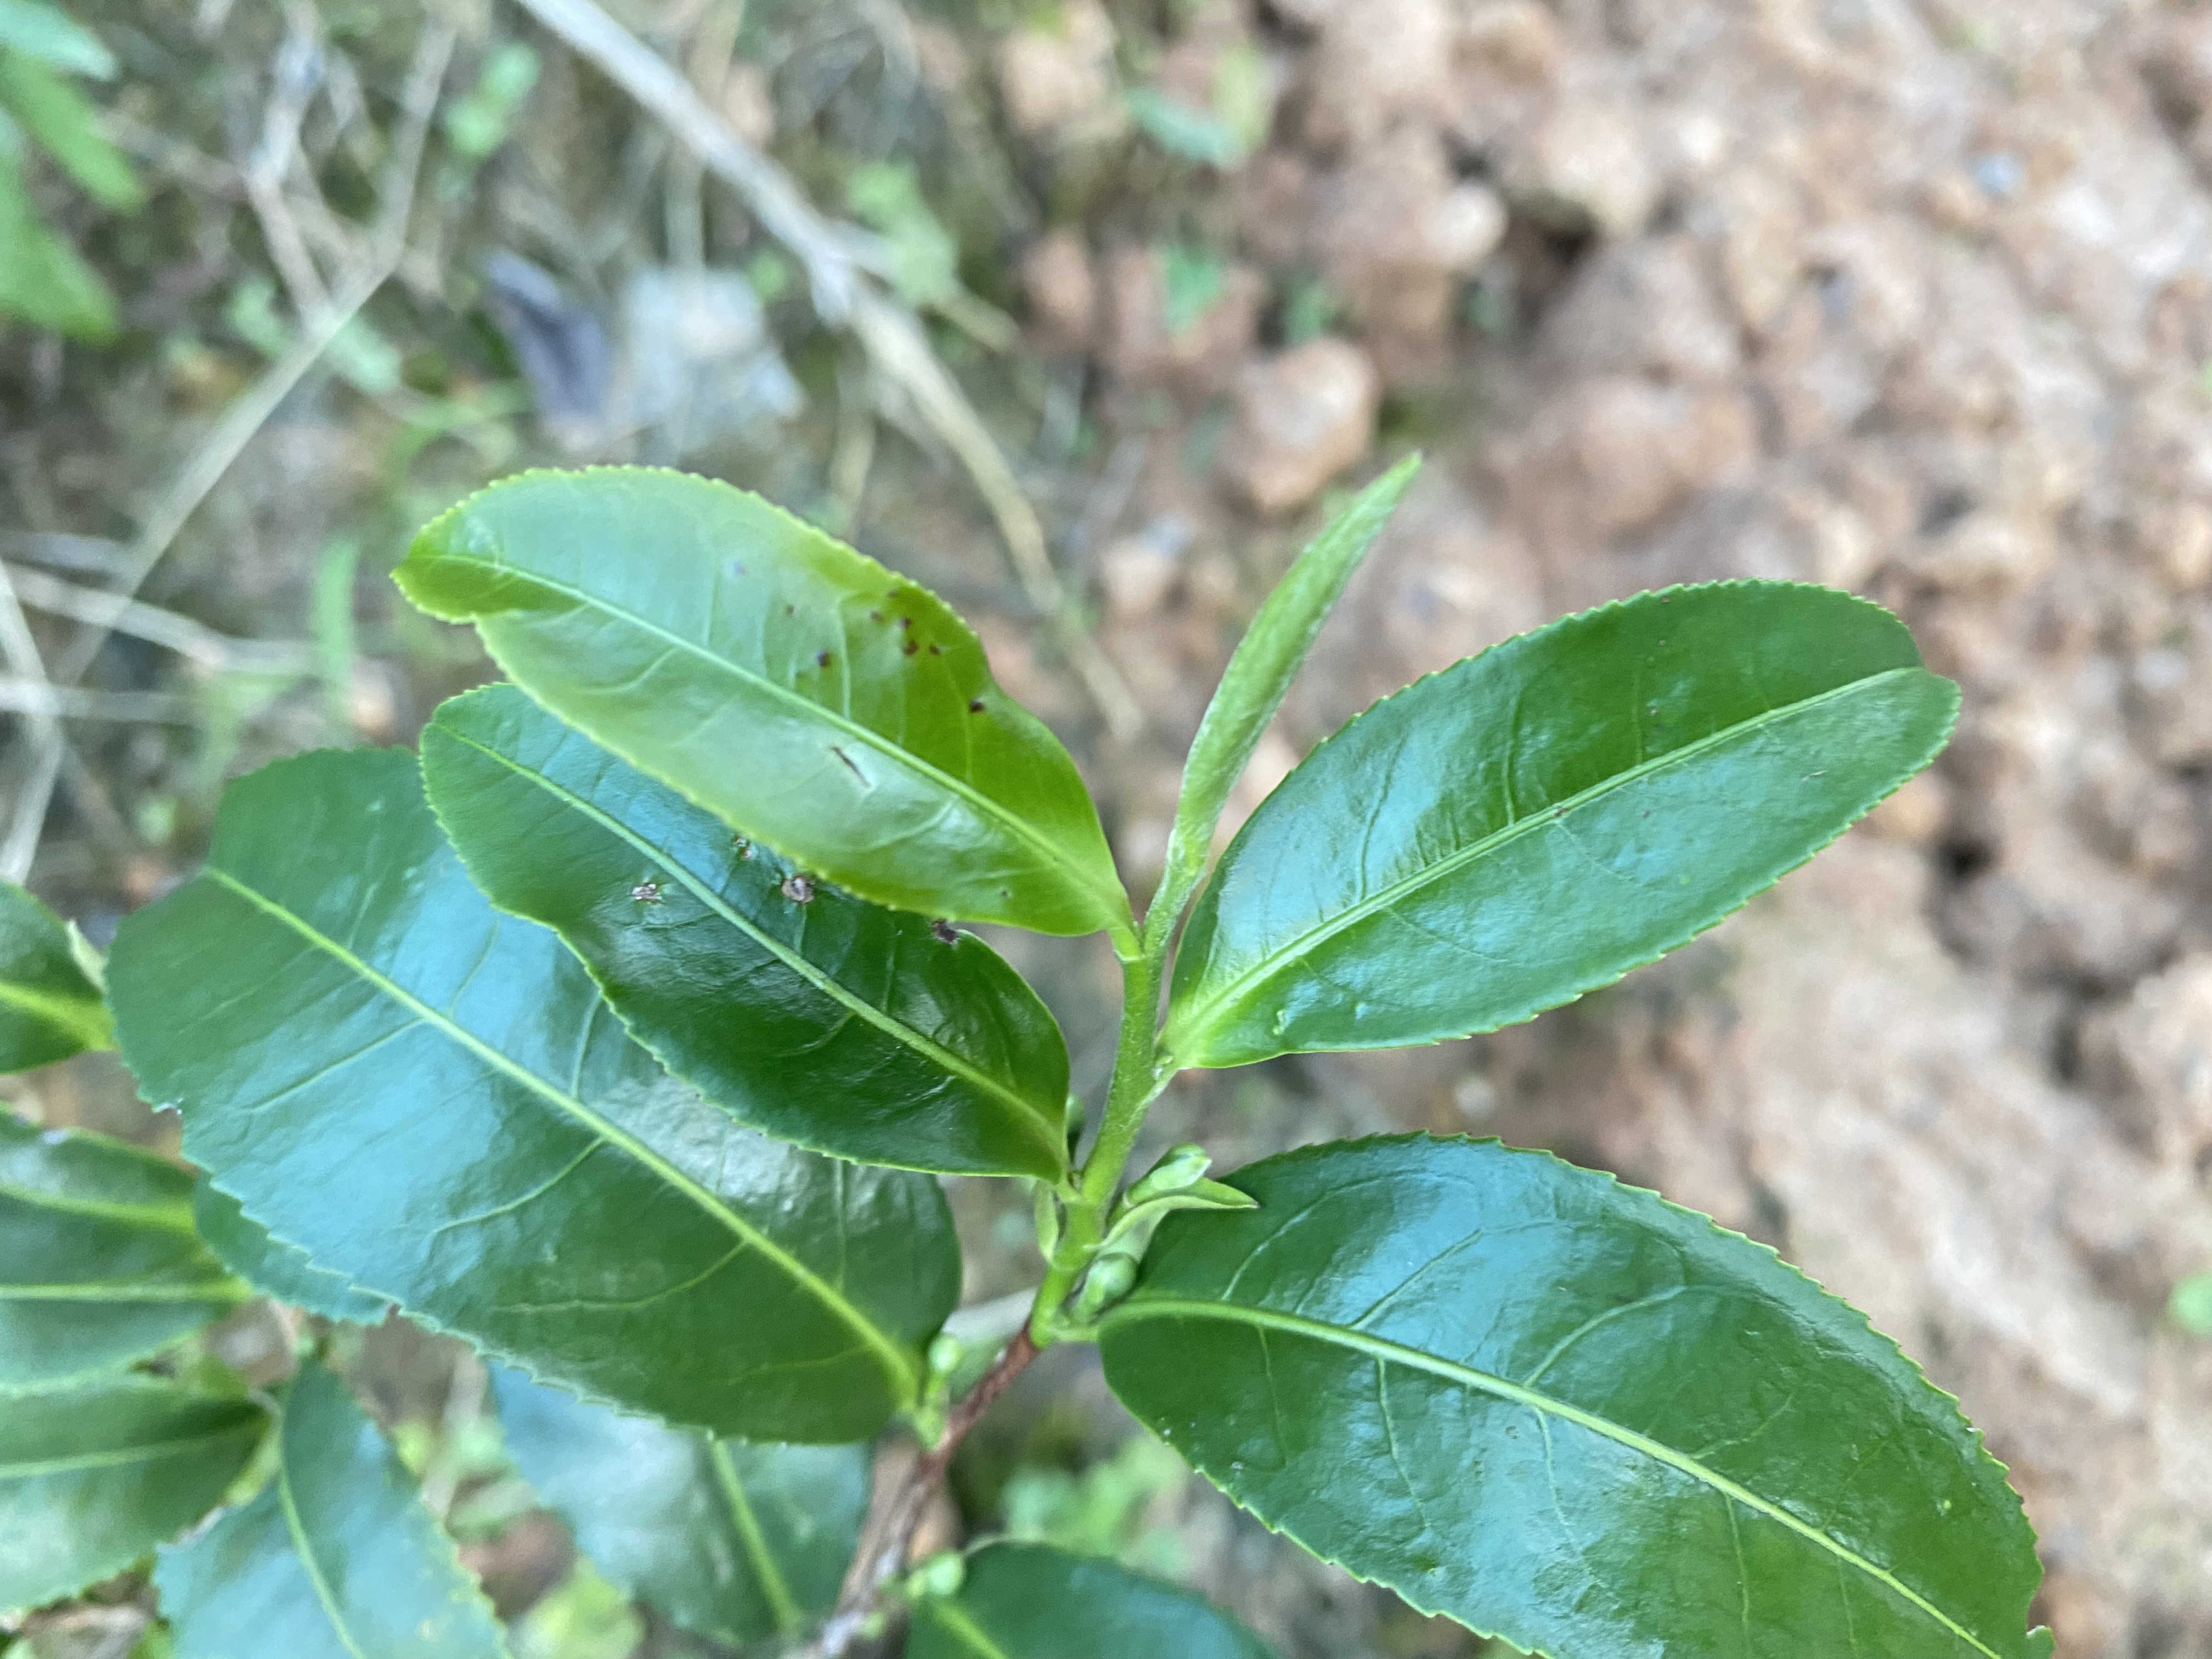chihuo_low: (1096, 1126, 2062, 1654)
healthy: (1167, 573, 1965, 1072)
tanju_low: (387, 464, 1122, 938), (416, 680, 1071, 1182)
